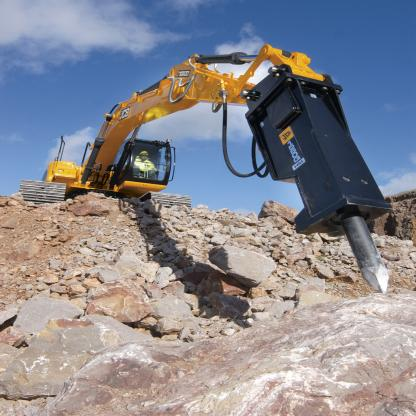excavator: (19, 35, 400, 302)
